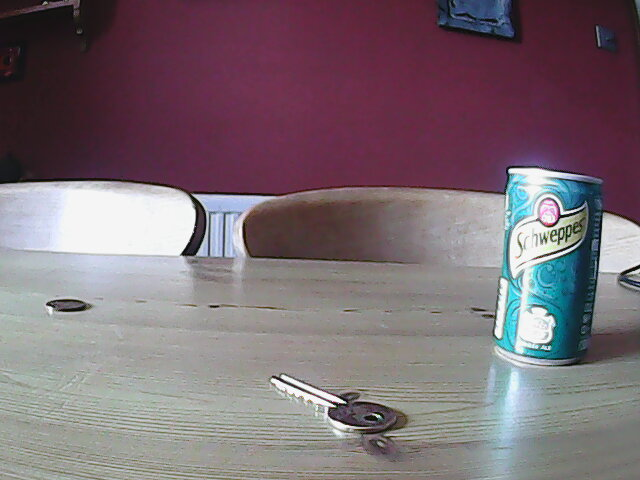Can: (488, 158, 607, 376)
Coin: (43, 293, 87, 315)
Key: (265, 371, 401, 434)
